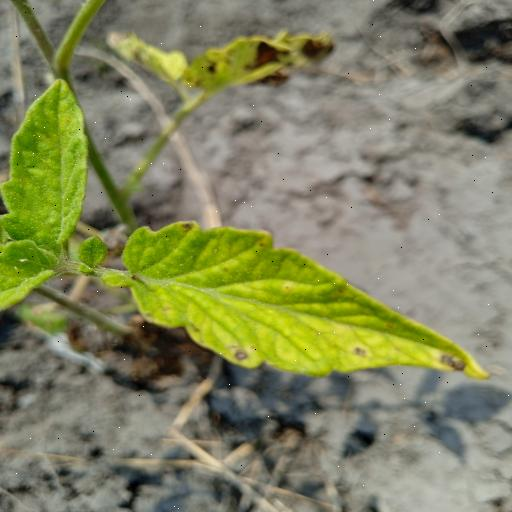Tomato_Brown_Spots: (106, 217, 489, 380), (0, 72, 94, 256)
